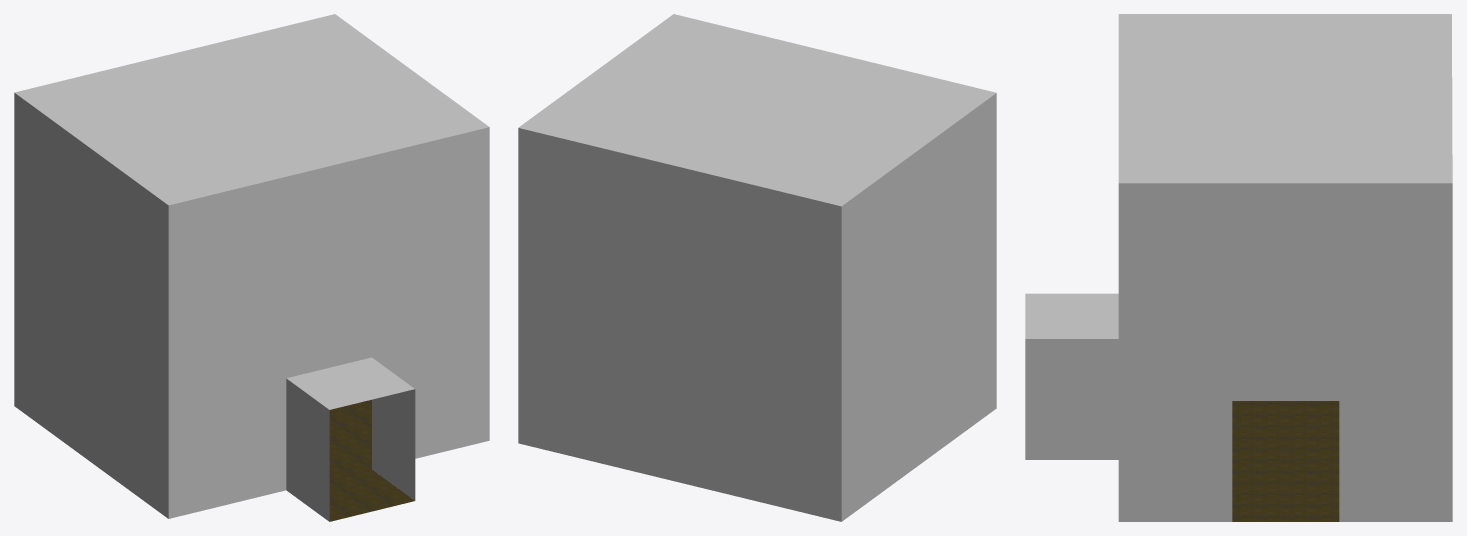
File: RoomChicoVer2.fbx
3 views of the same model, side by side, from view 1: azimuth 30°, elevation 25°; view 2: azimuth 150°, elevation 25°; view 3: azimuth 270°, elevation 25° (orthographic). The views are drawn at different scales.
Visible parts, largest first — view 1: WallChico_1, FloorChico_1; view 2: WallChico_1; view 3: WallChico_1, FloorChico_1.
Boxes of the visible parts, x1=… form: WallChico_1: x1=14, y1=14, x2=489, y2=521; FloorChico_1: x1=329, y1=399, x2=414, y2=521; WallChico_1: x1=518, y1=14, x2=996, y2=521; WallChico_1: x1=1025, y1=14, x2=1452, y2=521; FloorChico_1: x1=1232, y1=401, x2=1339, y2=521.
Size of the model in its own units: 1500 by 1400 by 1600.
